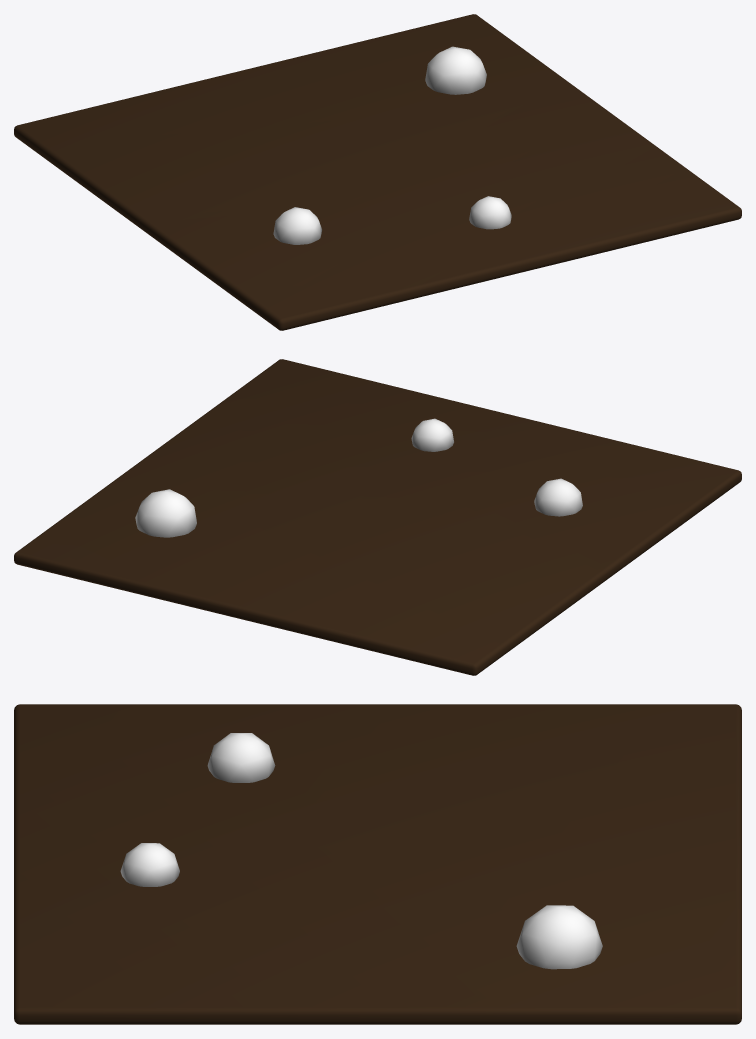
Rendered from dirt-path-section.obj.
3 views of the same model, one above another, from view 1: azimuth 30°, elevation 25°; view 2: azimuth 150°, elevation 25°; view 3: azimuth 270°, elevation 25° (orthographic). The views are drawn at different scales.
Parts seen in each view (by area): view 1: dirt-path-section; view 2: dirt-path-section; view 3: dirt-path-section.
Boxes of the visible parts, left/top/right/bottom form: dirt-path-section: left=14, top=14, right=741, bottom=330; dirt-path-section: left=14, top=359, right=741, bottom=675; dirt-path-section: left=14, top=704, right=741, bottom=1024.
Bounding box in the file's own units: 1.6 × 0.1882 × 1.6.
